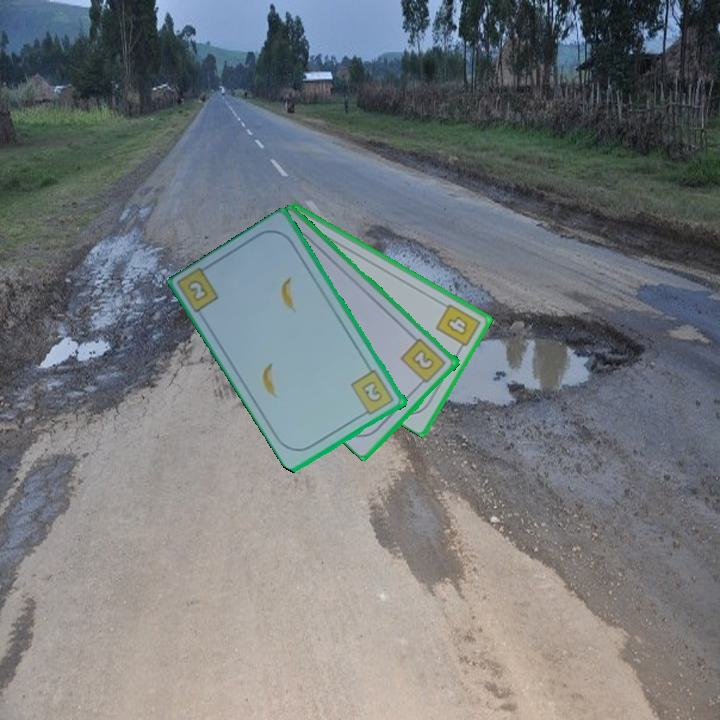2b: (398, 335, 449, 389), (348, 366, 397, 419), (186, 276, 211, 305)
4b: (432, 300, 483, 354)
